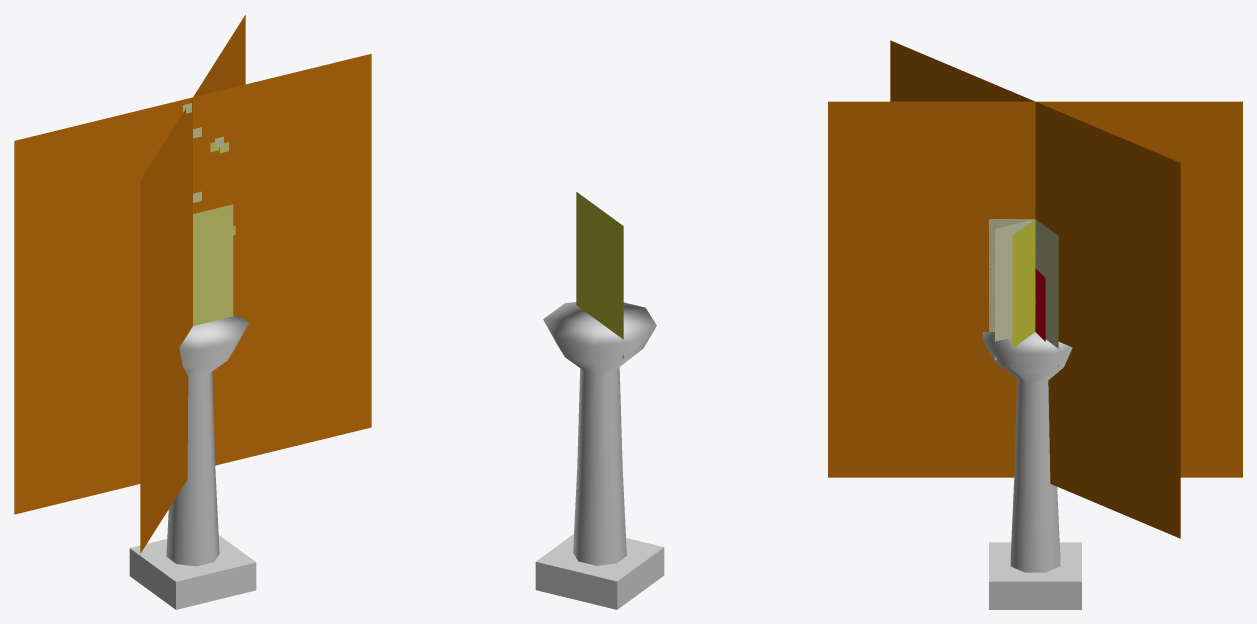
The model's file is leuchte_fackel.glb.
3 renders of one model, left to right at view 1: azimuth 30°, elevation 25°; view 2: azimuth 150°, elevation 25°; view 3: azimuth 270°, elevation 25°, orthographic.
Visible parts, largest first — view 1: leuchte_fackel_lod0; view 2: leuchte_fackel_lod0; view 3: leuchte_fackel_lod0.
Boxes of the visible parts, left/top/right/bottom form: leuchte_fackel_lod0: left=14, top=15, right=371, bottom=609; leuchte_fackel_lod0: left=535, top=192, right=664, bottom=609; leuchte_fackel_lod0: left=828, top=40, right=1242, bottom=609.
Size of what is drawn, in the model's own units: 4 by 5.24 by 4.
